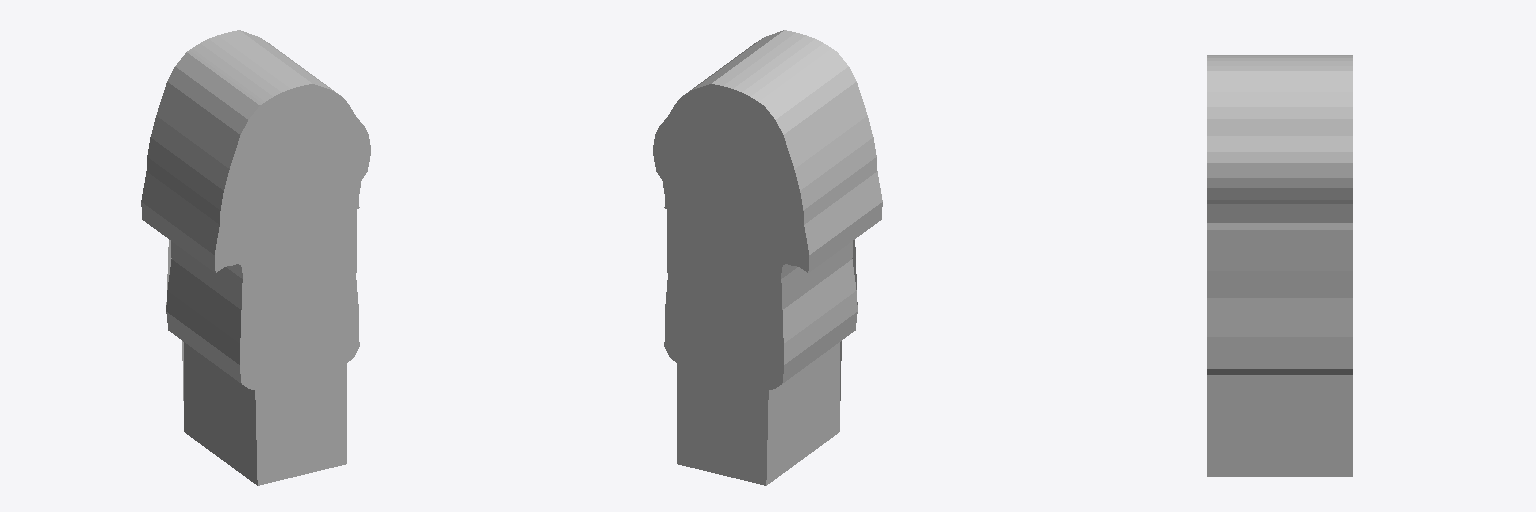
File: beauBody.obj
The picture shows the model from 3 angles: view 1: azimuth 30°, elevation 25°; view 2: azimuth 150°, elevation 25°; view 3: azimuth 270°, elevation 25°; orthographic projection.
Parts seen in each view (by area): view 1: Plane.000; view 2: Plane.000; view 3: Plane.000.
Boxes of the visible parts, x1,y1,x2,y2 form: Plane.000: [141, 30, 370, 485]; Plane.000: [653, 30, 882, 485]; Plane.000: [1207, 55, 1352, 476].
Size of the model in its own units: 0.5375 by 1.28 by 0.4371.